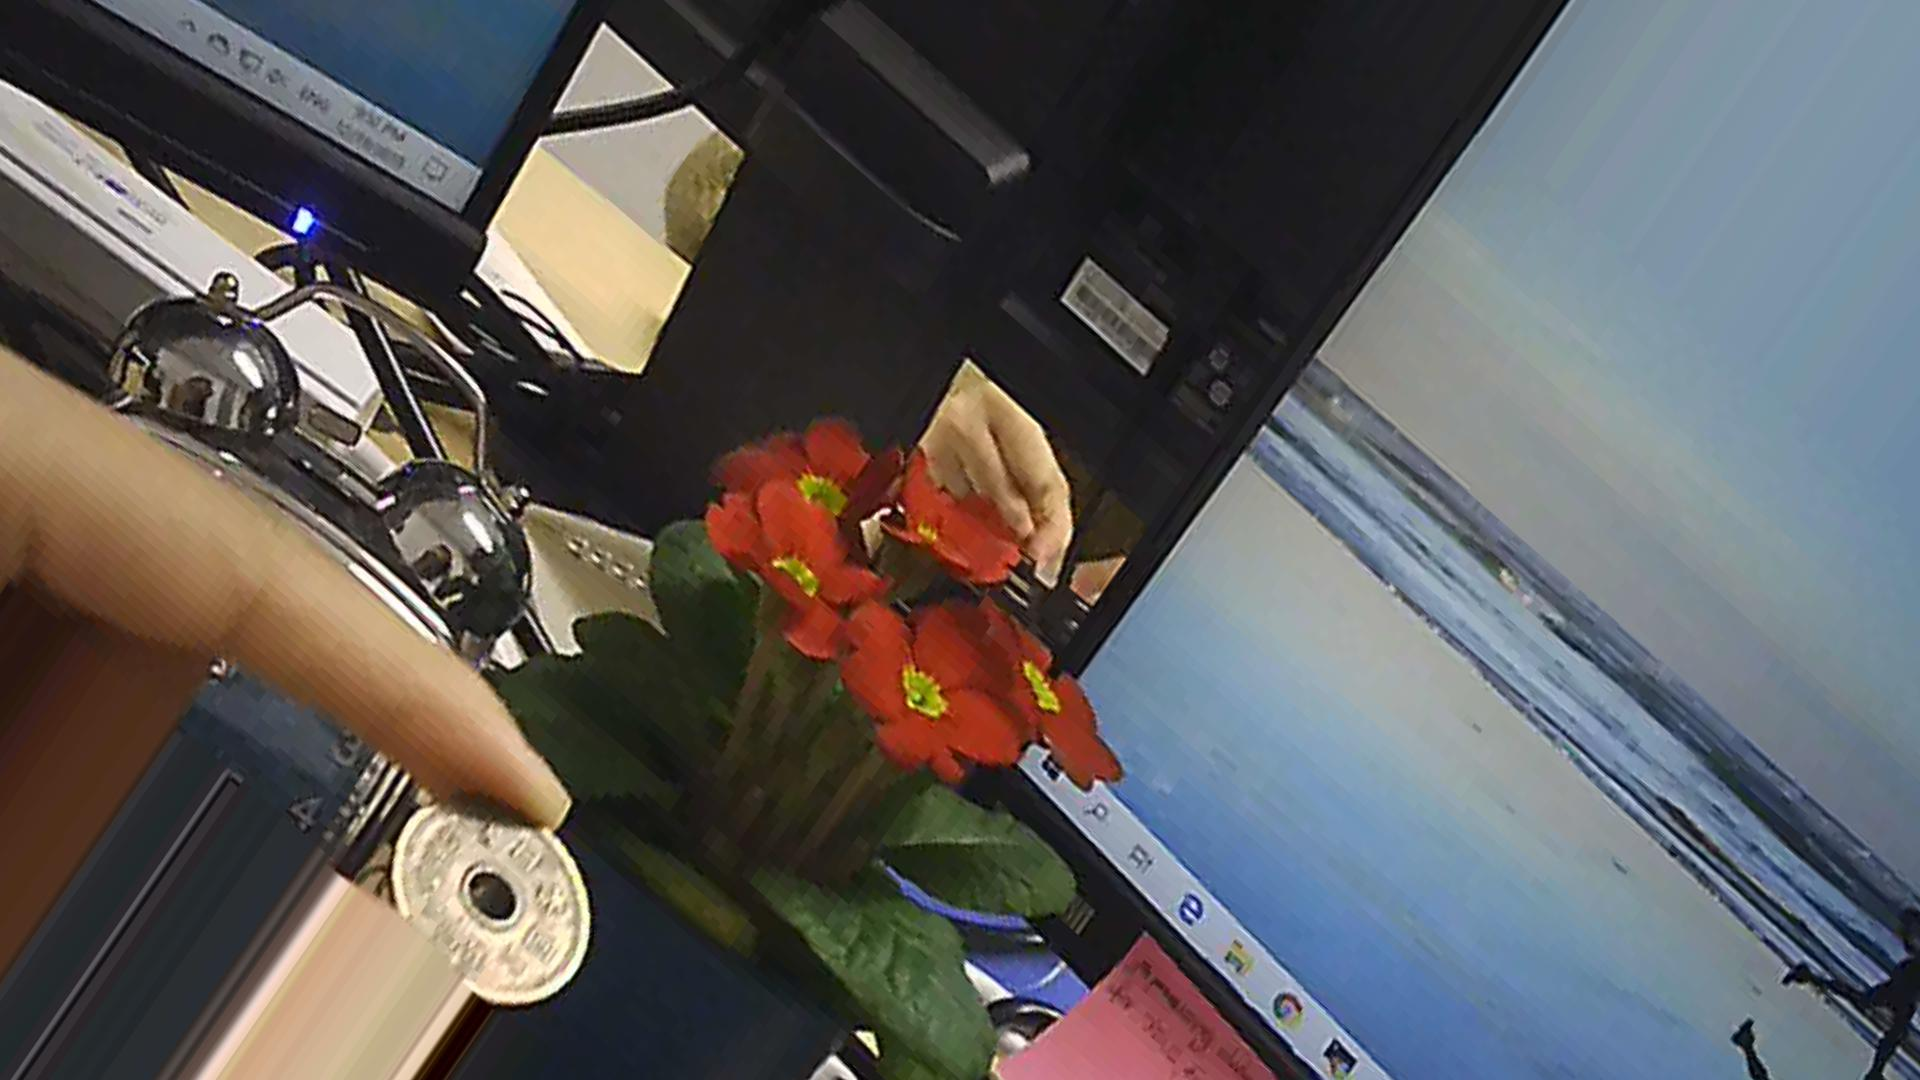5 Yen: (355, 783, 611, 1011)
